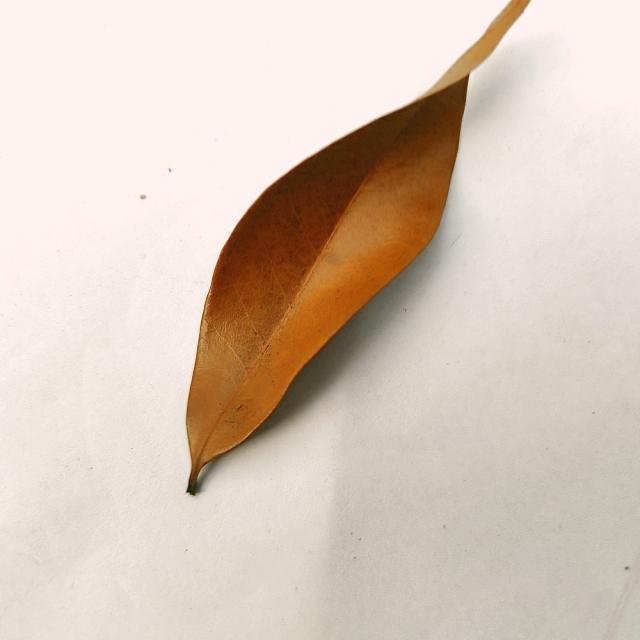Dry_Leaf-Lychee: (185, 75, 470, 496)
